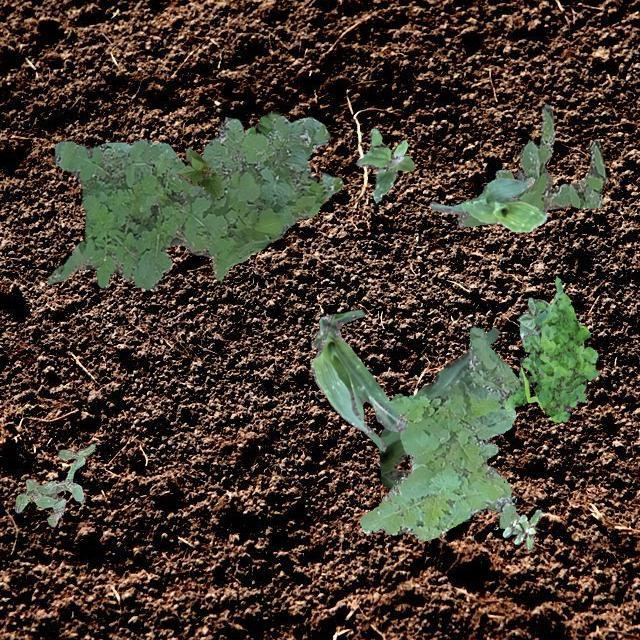crop: (378, 327, 498, 488), (309, 308, 406, 451), (428, 176, 546, 232), (176, 148, 220, 196), (516, 296, 542, 341)
weed: (46, 114, 342, 288), (358, 324, 520, 540), (456, 104, 606, 226), (502, 276, 598, 422), (14, 442, 94, 526), (356, 128, 414, 202), (502, 508, 540, 548), (244, 110, 280, 138)
